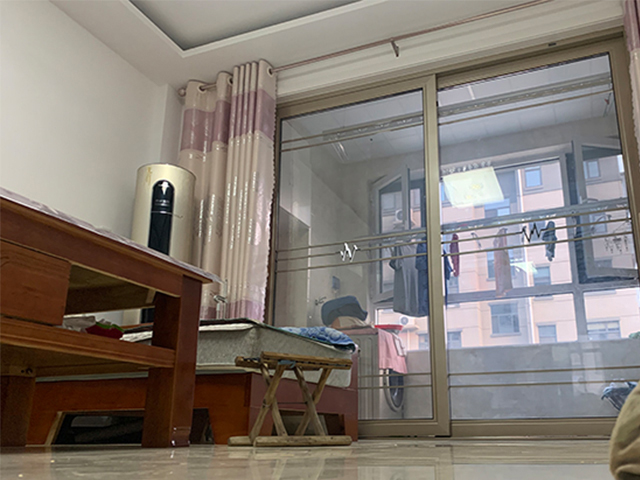curtain: (198, 59, 272, 322)
sofa: (194, 319, 361, 445)
stool: (227, 349, 353, 446)
table: (1, 188, 214, 449)
